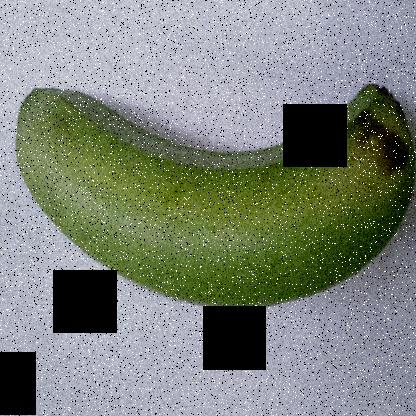freshunripe: (2, 41, 416, 341)
